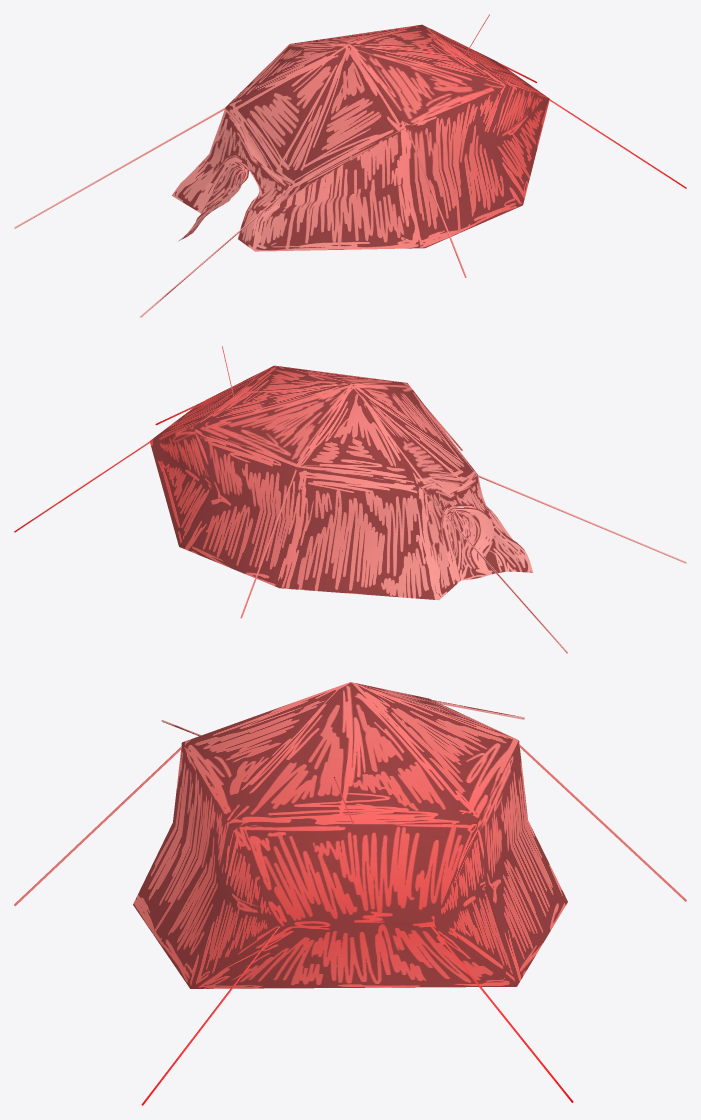
The model's file is tentMain_2050.glb.
3 renders of one model, top to bottom at view 1: azimuth 30°, elevation 25°; view 2: azimuth 150°, elevation 25°; view 3: azimuth 270°, elevation 25°, orthographic. The views are drawn at different scales.
Parts seen in each view (by area): view 1: tentMain_2050; view 2: tentMain_2050; view 3: tentMain_2050.
Part boxes in pixels (left/top/right/bottom): tentMain_2050: left=14, top=14, right=686, bottom=317; tentMain_2050: left=14, top=346, right=686, bottom=653; tentMain_2050: left=14, top=682, right=686, bottom=1105.
Bounding box in the file's own units: 12.27 × 3.48 × 8.94.
1 material, 1 textured.
